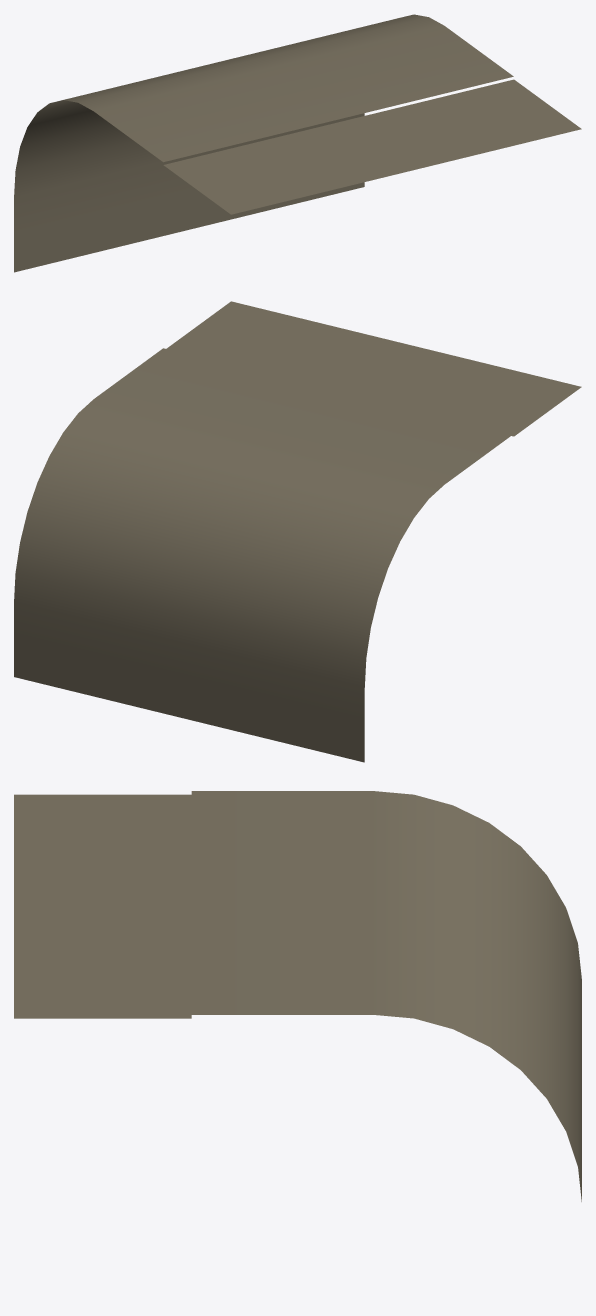
The model's file is SM_roofpiece_01.fbx.
The picture shows the model from 3 angles, top to bottom: view 1: azimuth 30°, elevation 25°; view 2: azimuth 150°, elevation 25°; view 3: azimuth 270°, elevation 25°; orthographic projection. The views are drawn at different scales.
Parts seen in each view (by area): view 1: roofpiece_01; view 2: roofpiece_01; view 3: roofpiece_01.
Part boxes in pixels (x1,y1,x2,y2): roofpiece_01: (14,14,581,272); roofpiece_01: (14,301,581,762); roofpiece_01: (14,791,581,1201).
Bounding box in the file's own units: 292 × 175 × 314.
